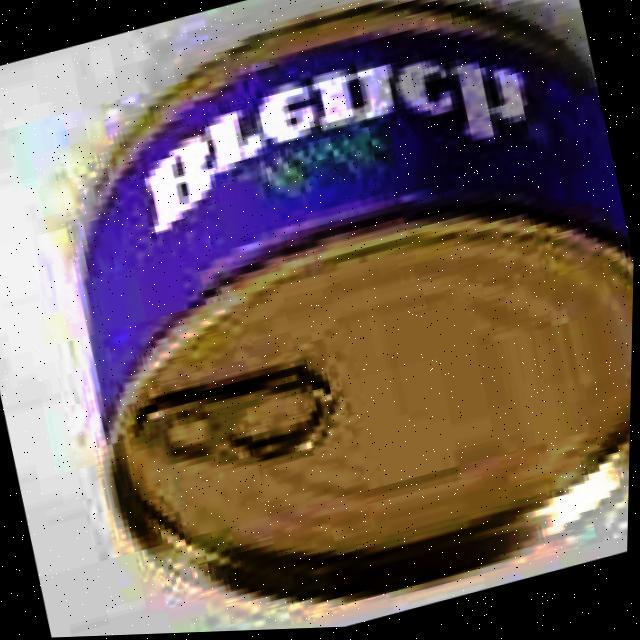Lata: (88, 2, 630, 599)
